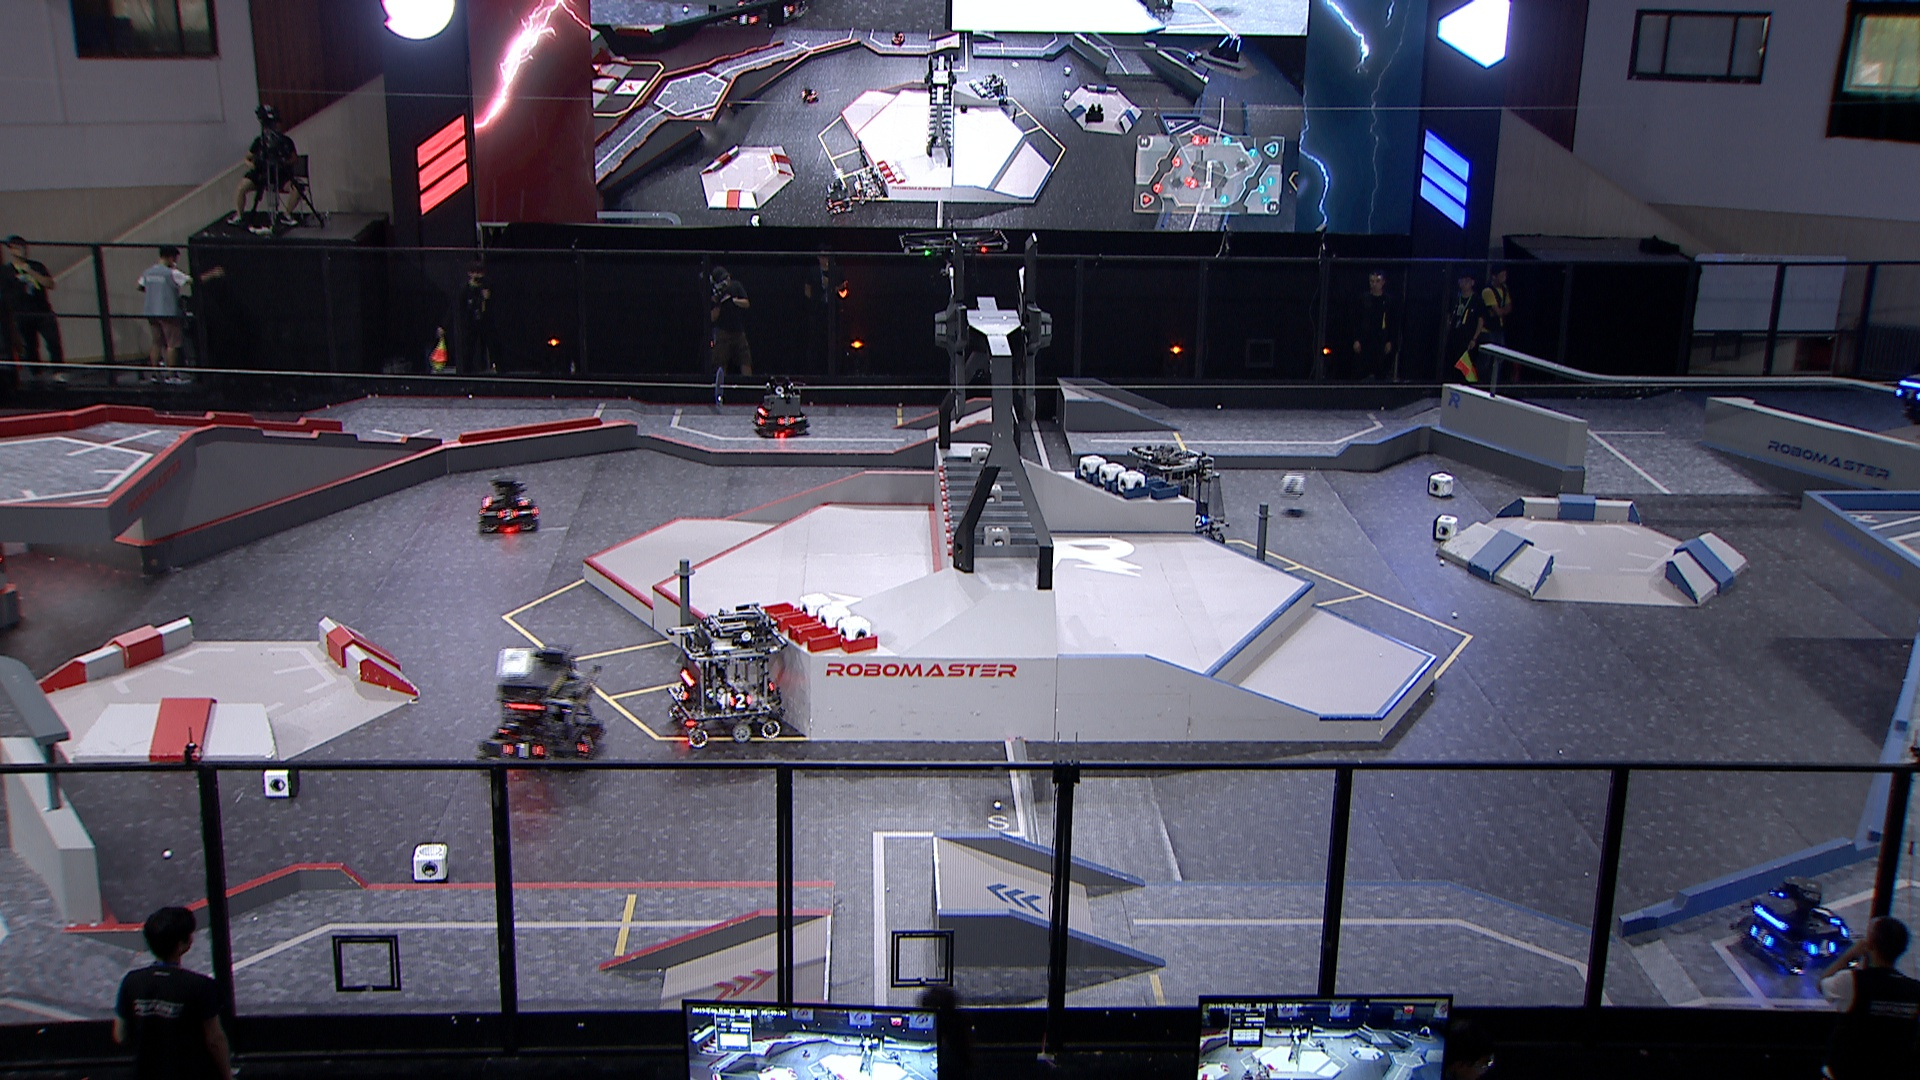armor: (504, 741, 547, 764), (1747, 924, 1774, 949), (1807, 939, 1840, 959), (727, 690, 756, 711), (1813, 906, 1844, 924), (579, 732, 599, 756), (1894, 386, 1920, 401), (493, 508, 520, 522), (1191, 514, 1212, 531), (676, 684, 694, 702), (775, 415, 796, 429), (517, 495, 531, 509)
car: (661, 600, 793, 746), (476, 642, 609, 773), (1735, 873, 1859, 975), (1127, 440, 1233, 550), (476, 476, 542, 534), (752, 386, 814, 438)
ignore: (851, 164, 887, 206), (822, 179, 855, 216), (977, 73, 1011, 105), (1209, 33, 1244, 65), (795, 86, 820, 105), (887, 30, 907, 47), (1185, 49, 1204, 65)
watcher: (1888, 368, 1920, 427)
